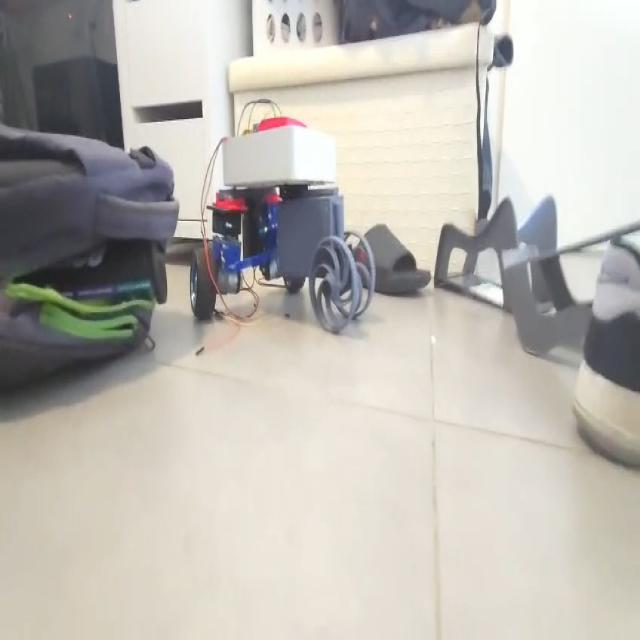Robot: (190, 113, 376, 335)
